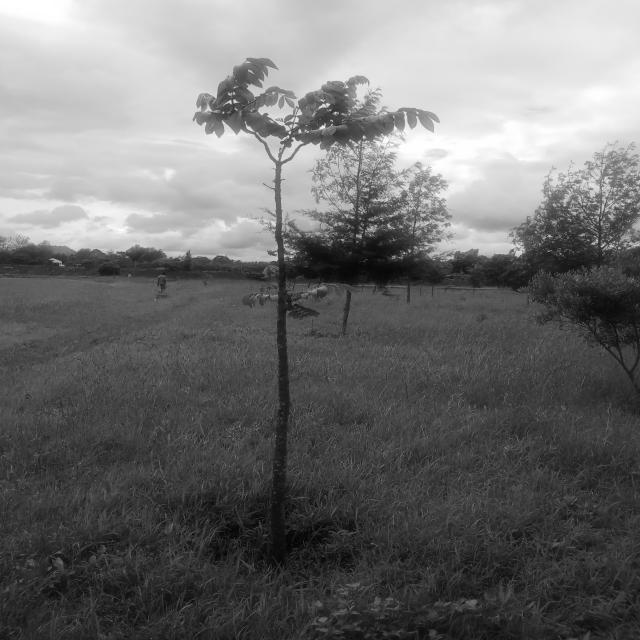Polyscias Kikuyensis: (164, 48, 441, 548), (297, 82, 430, 332)
